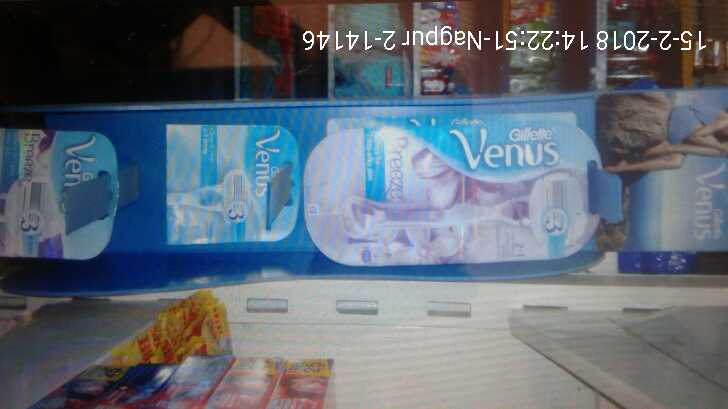venus: (306, 123, 602, 260), (162, 123, 302, 242), (1, 129, 117, 265)
